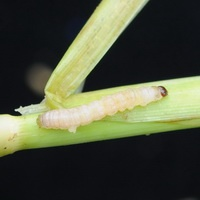insect: (16, 0, 166, 131)
